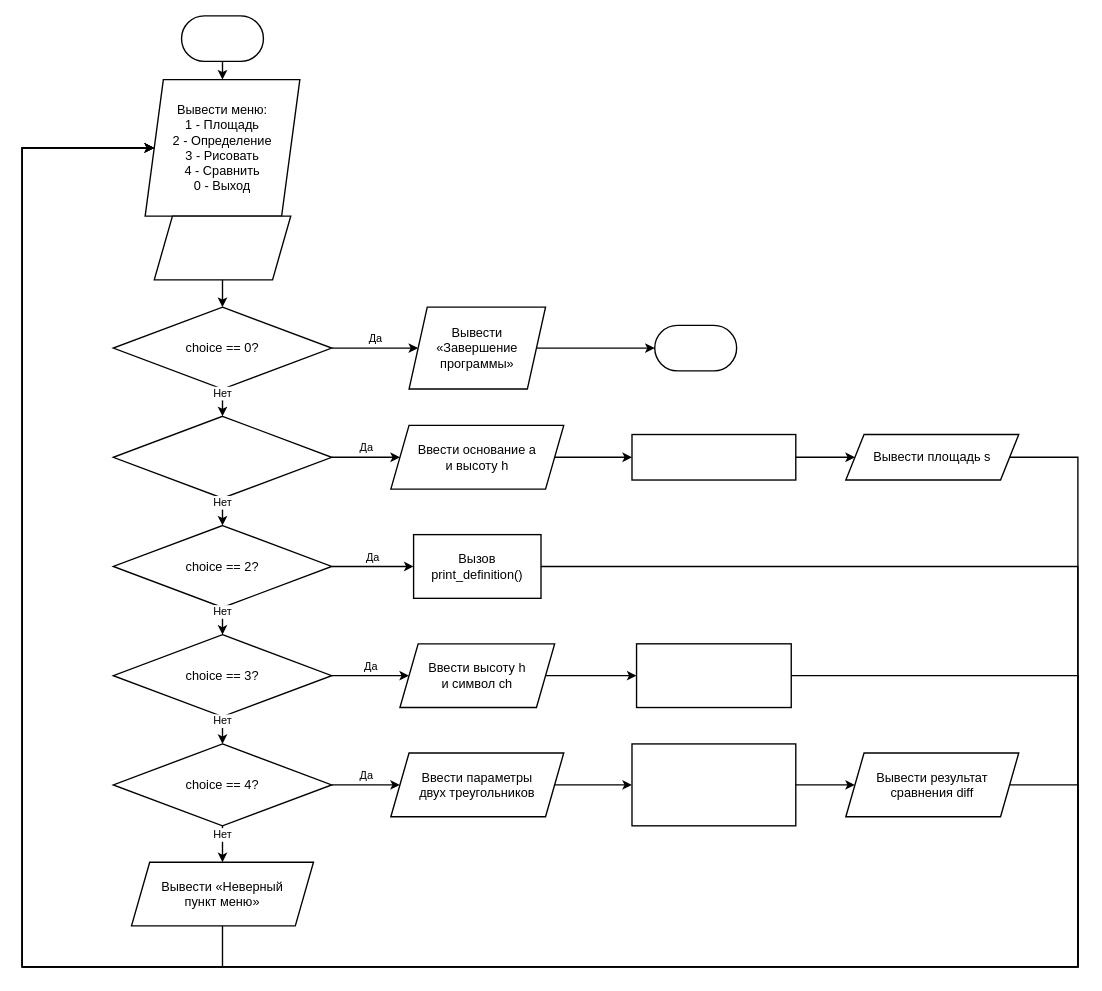
Some shapes in this 1102 by 991 pixel diagram are drawn without their labels. The shapes that lost their labels are listed below. From the top down, each one's centre as x and y in pixels, then its label:
At pixel 222 38: "Начало".
At pixel 222 247: "Ввести пункт меню choice".
At pixel 695 347: "Конец".
At pixel 222 456: "choice == 1?".
At pixel 713 456: "s = area_triangle(a, h)".
At pixel 713 675: "Вызов draw_triangle(h, ch)".
At pixel 713 784: "s1 = area(a1, h1) s2 = area(a2, h2) diff = compare(s1, s2)".
